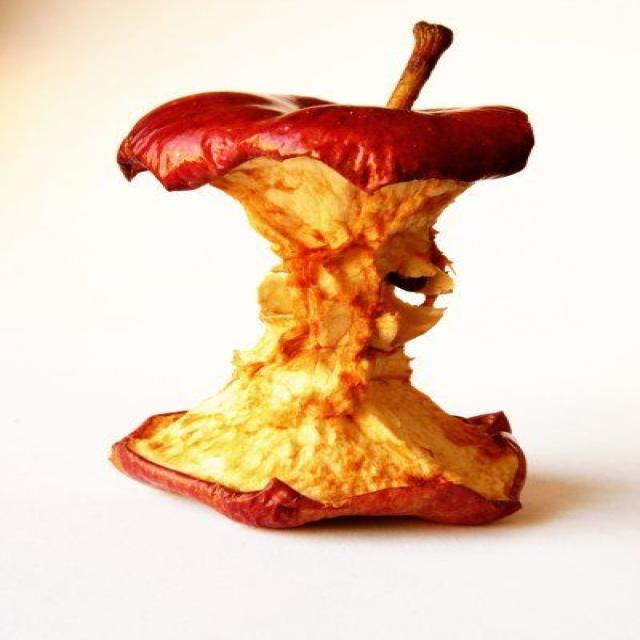apple_fruit: (53, 0, 605, 606)
